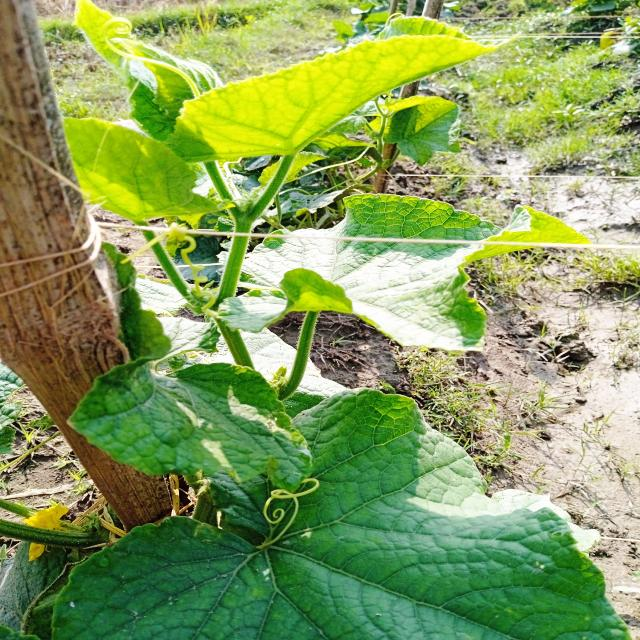Fresh-Leaf: (216, 194, 595, 354), (169, 18, 518, 160)
